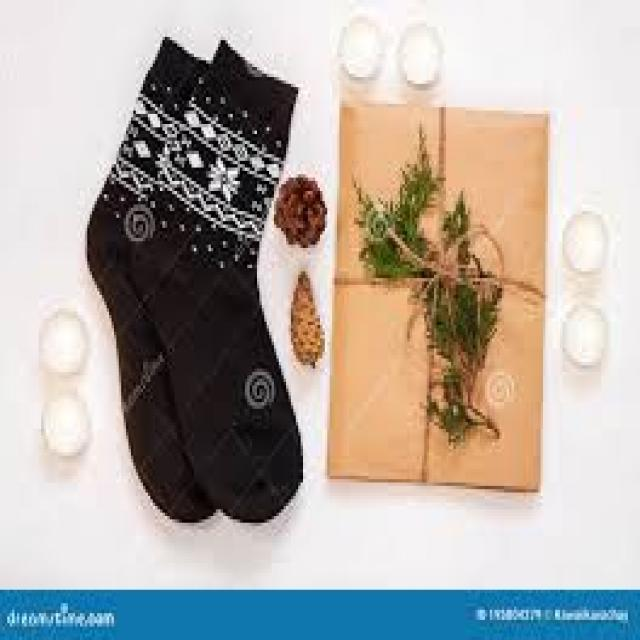Clothes -Biodegradable-: (85, 33, 305, 525)
